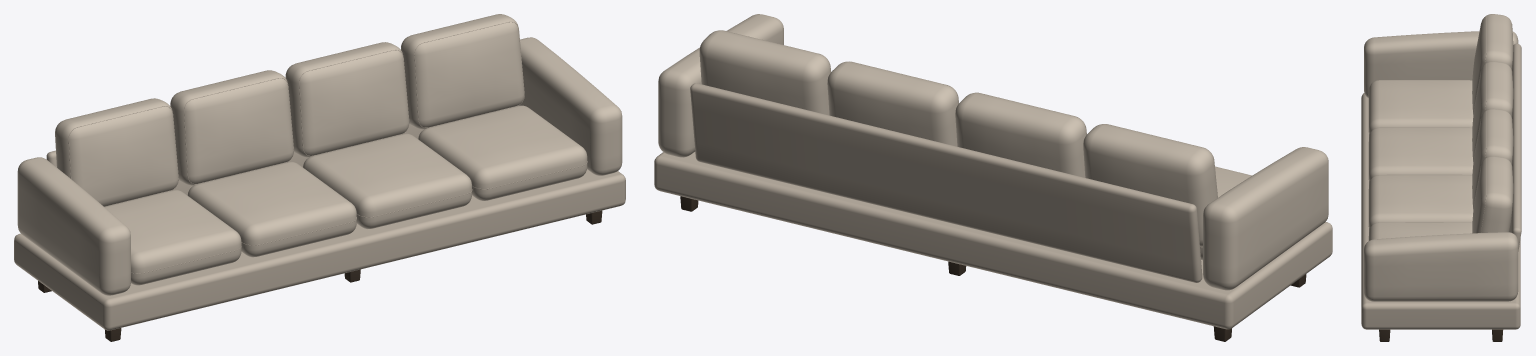
Rendered from sofa-4-seater.glb.
3 renders of one model, left to right at view 1: azimuth 30°, elevation 25°; view 2: azimuth 150°, elevation 25°; view 3: azimuth 270°, elevation 25°, orthographic. The views are drawn at different scales.
Visible parts, largest first — view 1: EQ_sofa-4-seater, EQ_sofa-4-seater_Continuous_Upholstered_Base, EQ_sofa-4-seater_Armrest_Left, EQ_sofa-4-seater_Armrest_Right, EQ_sofa-4-seater_Rear_Support; view 2: EQ_sofa-4-seater_Rear_Support, EQ_sofa-4-seater, EQ_sofa-4-seater_Continuous_Upholstered_Base, EQ_sofa-4-seater_Armrest_Left, EQ_sofa-4-seater_Armrest_Right; view 3: EQ_sofa-4-seater, EQ_sofa-4-seater_Armrest_Right, EQ_sofa-4-seater_Continuous_Upholstered_Base, EQ_sofa-4-seater_Armrest_Left, EQ_sofa-4-seater_Rear_Support.
Part boxes in pixels (x1=…): EQ_sofa-4-seater: x1=38, y1=14, x2=602, y2=341; EQ_sofa-4-seater_Continuous_Upholstered_Base: x1=14, y1=169, x2=625, y2=330; EQ_sofa-4-seater_Armrest_Left: x1=17, y1=157, x2=130, y2=295; EQ_sofa-4-seater_Armrest_Right: x1=519, y1=37, x2=622, y2=175; EQ_sofa-4-seater_Rear_Support: x1=46, y1=124, x2=423, y2=195; EQ_sofa-4-seater_Rear_Support: x1=690, y1=83, x2=1202, y2=282; EQ_sofa-4-seater: x1=680, y1=30, x2=1306, y2=341; EQ_sofa-4-seater_Continuous_Upholstered_Base: x1=654, y1=152, x2=1332, y2=329; EQ_sofa-4-seater_Armrest_Left: x1=1203, y1=147, x2=1328, y2=290; EQ_sofa-4-seater_Armrest_Right: x1=658, y1=14, x2=783, y2=157; EQ_sofa-4-seater: x1=1368, y1=14, x2=1513, y2=341; EQ_sofa-4-seater_Armrest_Right: x1=1364, y1=232, x2=1518, y2=301; EQ_sofa-4-seater_Continuous_Upholstered_Base: x1=1361, y1=93, x2=1520, y2=329; EQ_sofa-4-seater_Armrest_Left: x1=1364, y1=31, x2=1518, y2=97; EQ_sofa-4-seater_Rear_Support: x1=1509, y1=43, x2=1521, y2=251.
Bounding box in the file's own units: 3.07 × 0.9156 × 0.9646.
